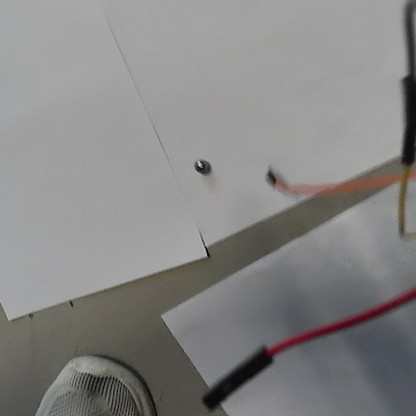ironball: (191, 156, 211, 175)
